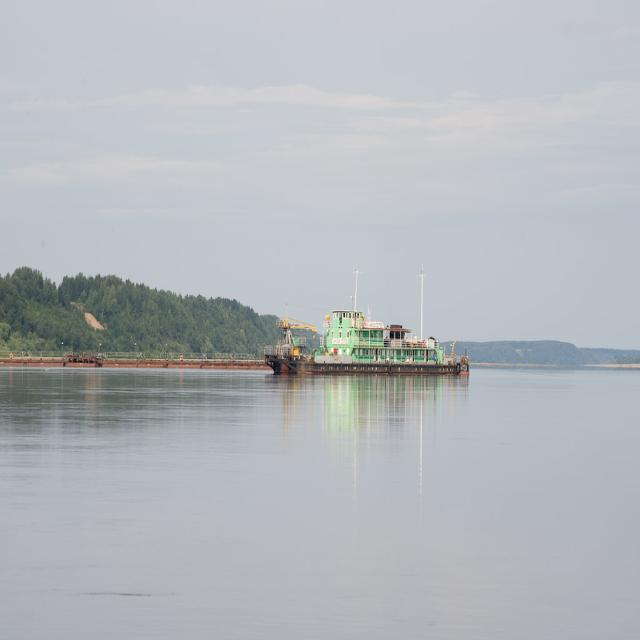fishing boat: (267, 299, 473, 380)
